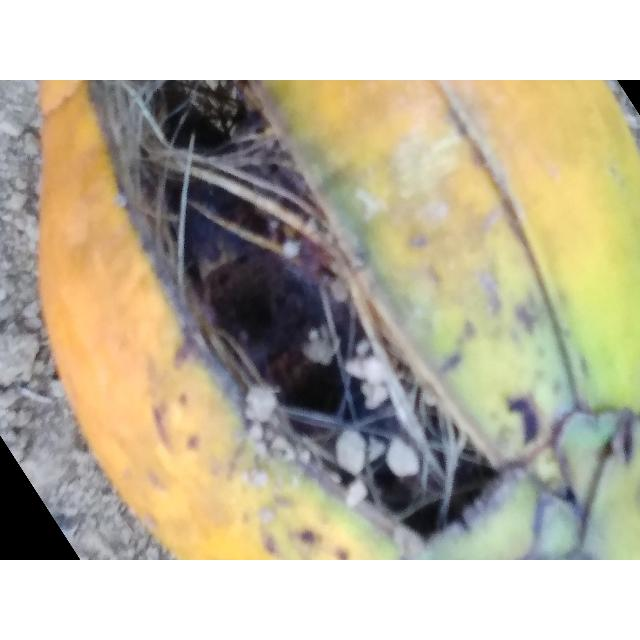damaged: (39, 80, 640, 560)
